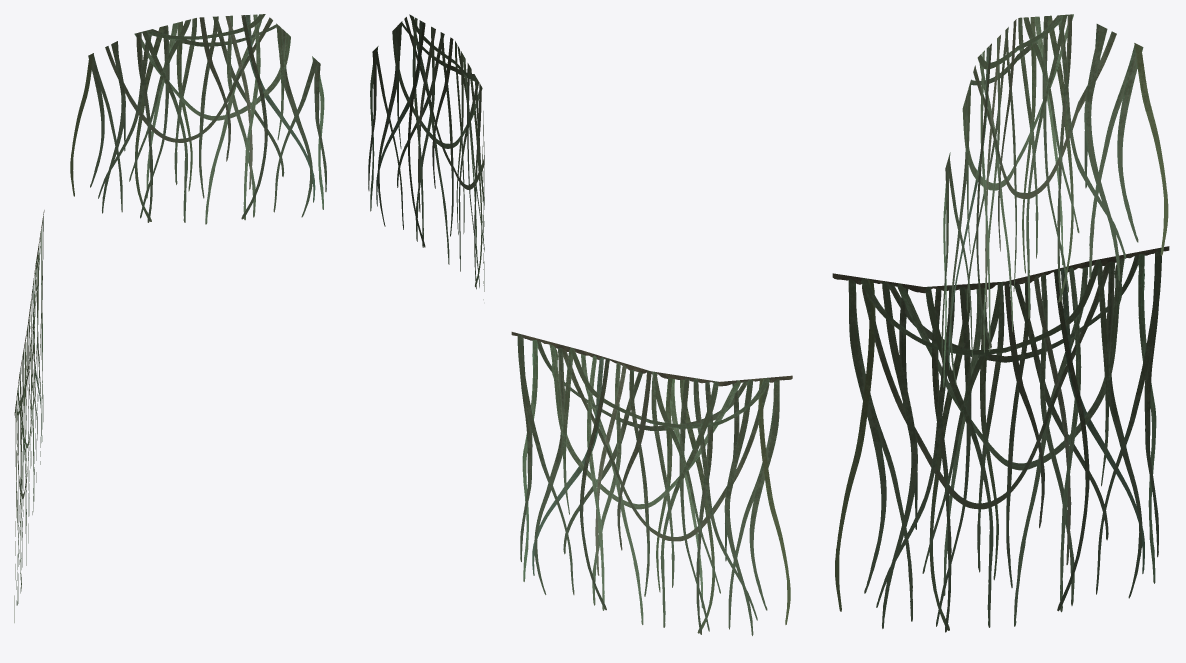
File: lianes_01.FBX
3 views of the same model, side by side, from view 1: azimuth 30°, elevation 25°; view 2: azimuth 150°, elevation 25°; view 3: azimuth 270°, elevation 25° (orthographic). The views are drawn at different scales.
Visible parts, largest first — view 1: Plane001; view 2: Plane001; view 3: Plane001.
Boxes of the visible parts, left/top/right/bottom form: Plane001: left=14, top=14, right=326, bottom=622; Plane001: left=368, top=14, right=792, bottom=635; Plane001: left=832, top=14, right=1169, bottom=632.
Bounding box in the file's own units: 941 × 1321 × 529.
Materials: 1 (1 with a texture image).
